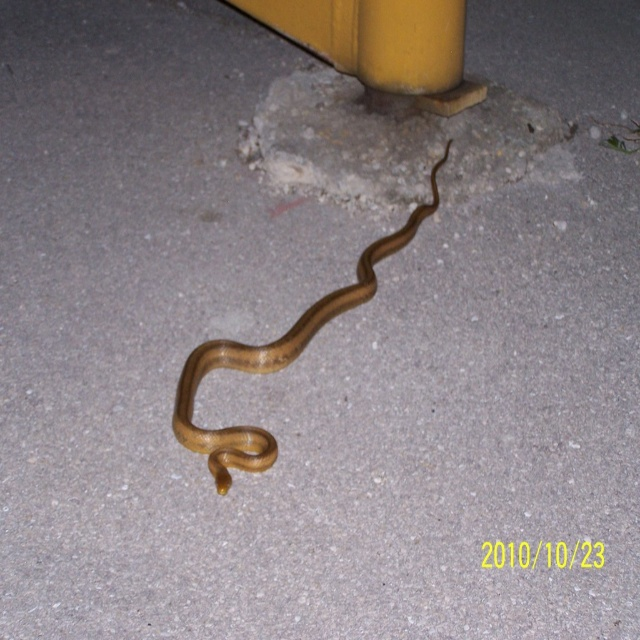Snake: (170, 137, 451, 498)
